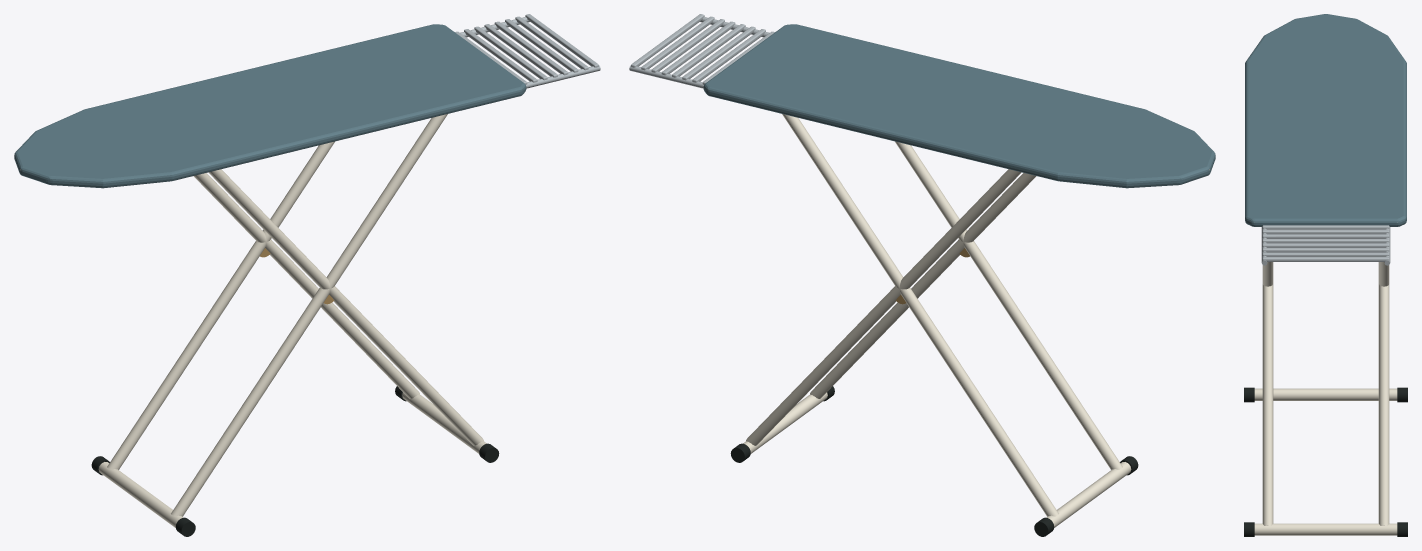
Rendered from laundry-ironing-board.glb.
3 views of the same model, side by side, from view 1: azimuth 30°, elevation 25°; view 2: azimuth 150°, elevation 25°; view 3: azimuth 270°, elevation 25° (orthographic). The views are drawn at different scales.
Parts seen in each view (by area): view 1: laundry-ironing-board authored assembly; view 2: laundry-ironing-board authored assembly; view 3: laundry-ironing-board authored assembly.
Boxes of the visible parts, x1,y1,x2,y2 form: laundry-ironing-board authored assembly: (14,14,600,536); laundry-ironing-board authored assembly: (629,14,1215,536); laundry-ironing-board authored assembly: (1244,14,1407,536).
Bounding box in the file's own units: 1.4 × 0.9 × 0.4.
